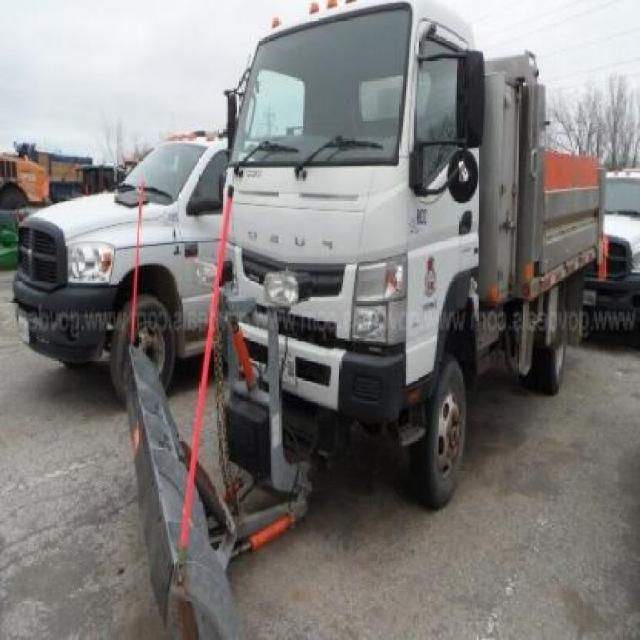truck: (219, 1, 606, 512)
